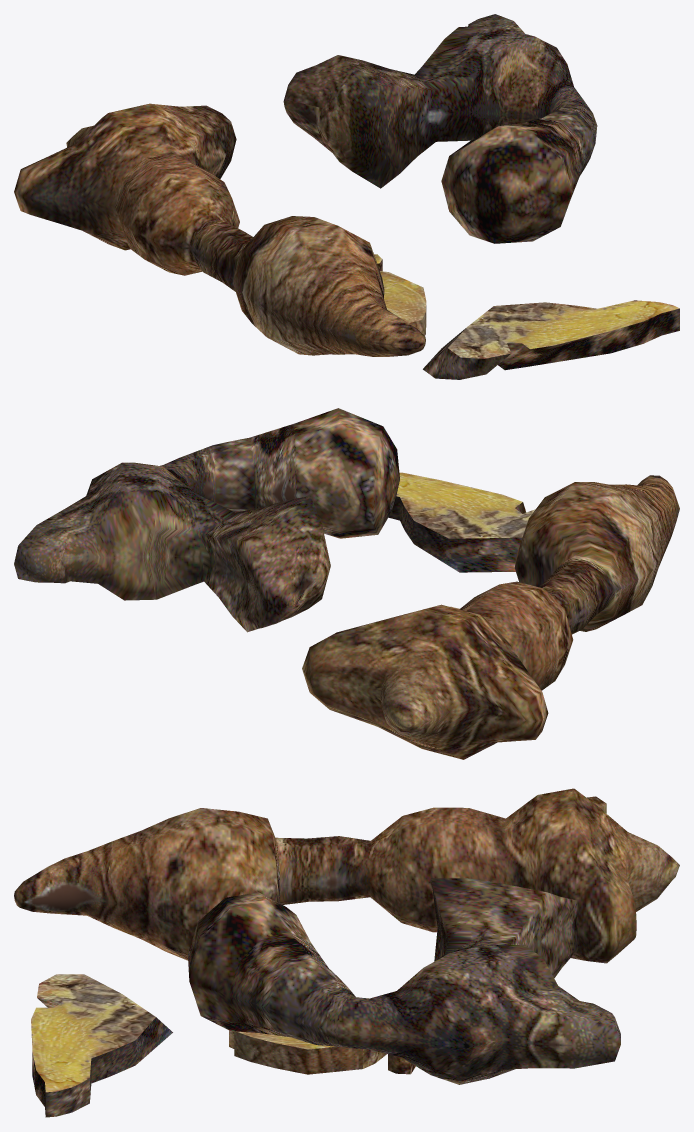
The model's file is shegan.FBX.
The picture shows the model from 3 angles, top to bottom: view 1: azimuth 30°, elevation 25°; view 2: azimuth 150°, elevation 25°; view 3: azimuth 270°, elevation 25°; orthographic projection. The views are drawn at different scales.
Visible parts, largest first — view 1: Cylinder001, Cylinder002, Line001, Line002; view 2: Cylinder002, Cylinder001, Line001; view 3: Cylinder001, Cylinder002, Line001, Line002.
Boxes of the visible parts, x1,y1,x2,y2 form: Cylinder001: (14, 103, 425, 356); Cylinder002: (283, 14, 597, 243); Line001: (423, 300, 679, 379); Line002: (374, 254, 426, 335); Cylinder002: (14, 408, 399, 632); Cylinder001: (302, 475, 679, 759); Line001: (388, 472, 535, 572); Cylinder001: (14, 788, 679, 963); Cylinder002: (187, 878, 620, 1084); Line001: (31, 974, 172, 1117); Line002: (229, 1030, 415, 1074).
Size of the model in its own units: 0.4641 by 0.1641 by 0.4808.
1 material, 1 textured.
